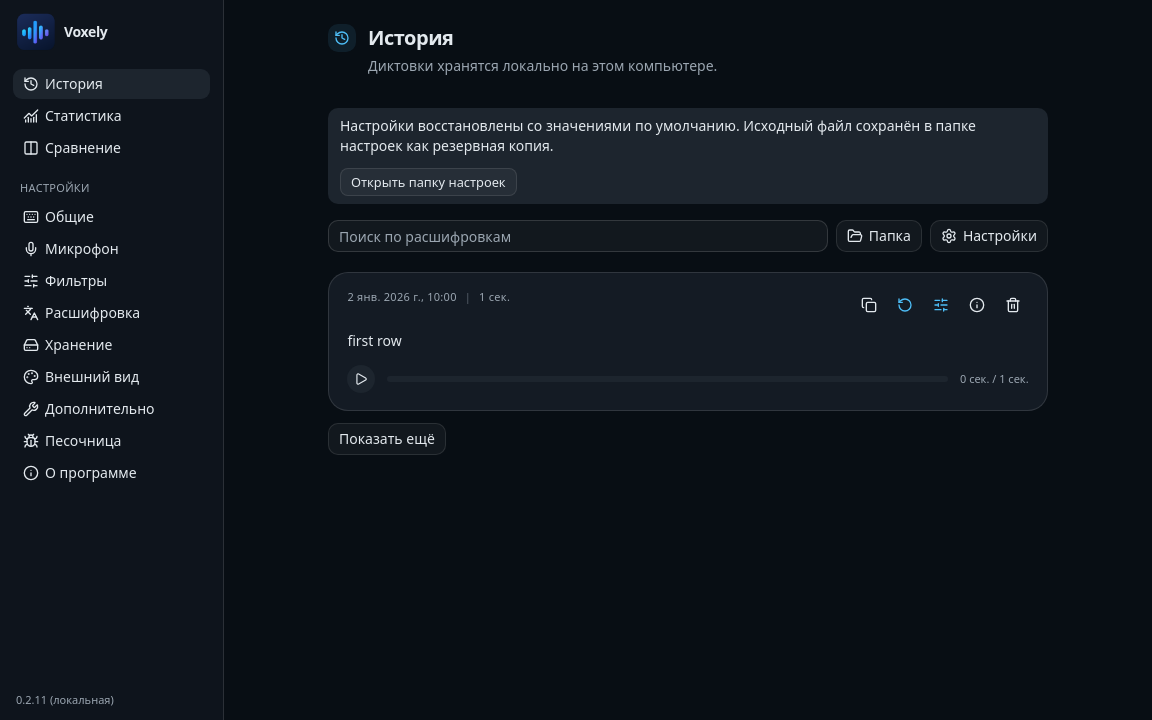
it: MainApp › deduplicates history pages and ignores a page that finishes after a refresh
Expected: the text "first row" is shown, [347,331,402,350]
What coordinates should you click on to do the following:
click the button "Показать ещё"
I would click on:
 (387, 439)
Its box is [328,423,446,455].
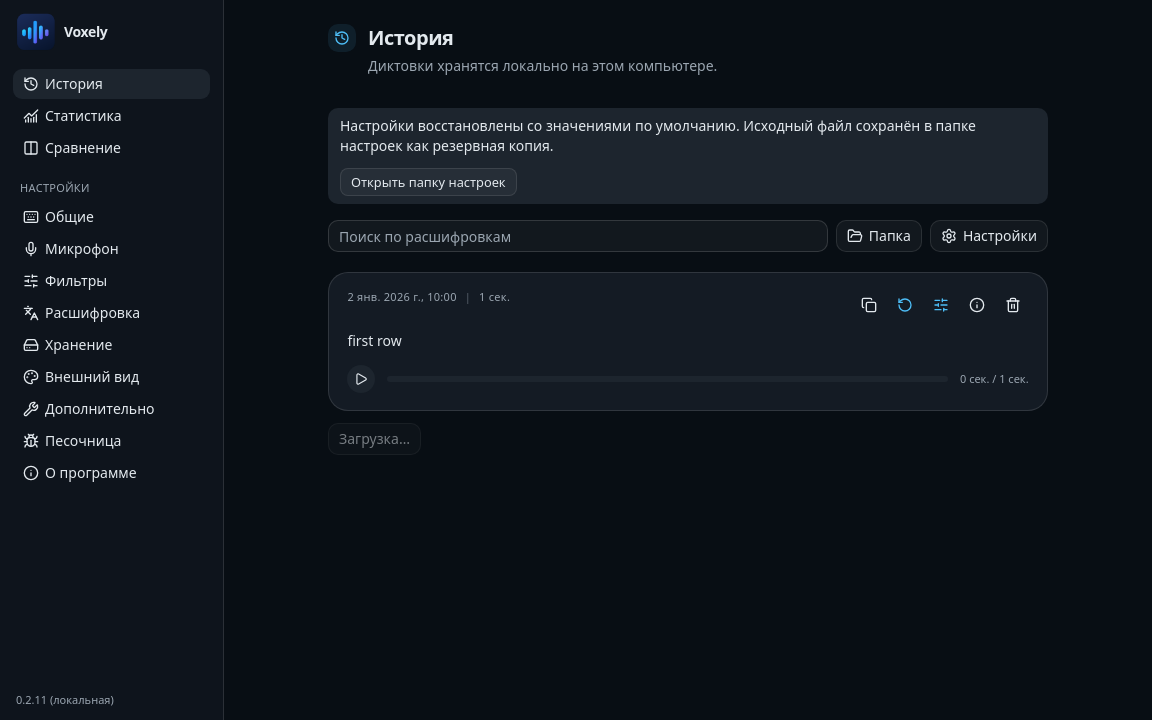
What coordinates should you click on to do the following:
click the button named "Показать ещё"
I would click on:
 (374, 439)
Its box is [328,423,421,455].
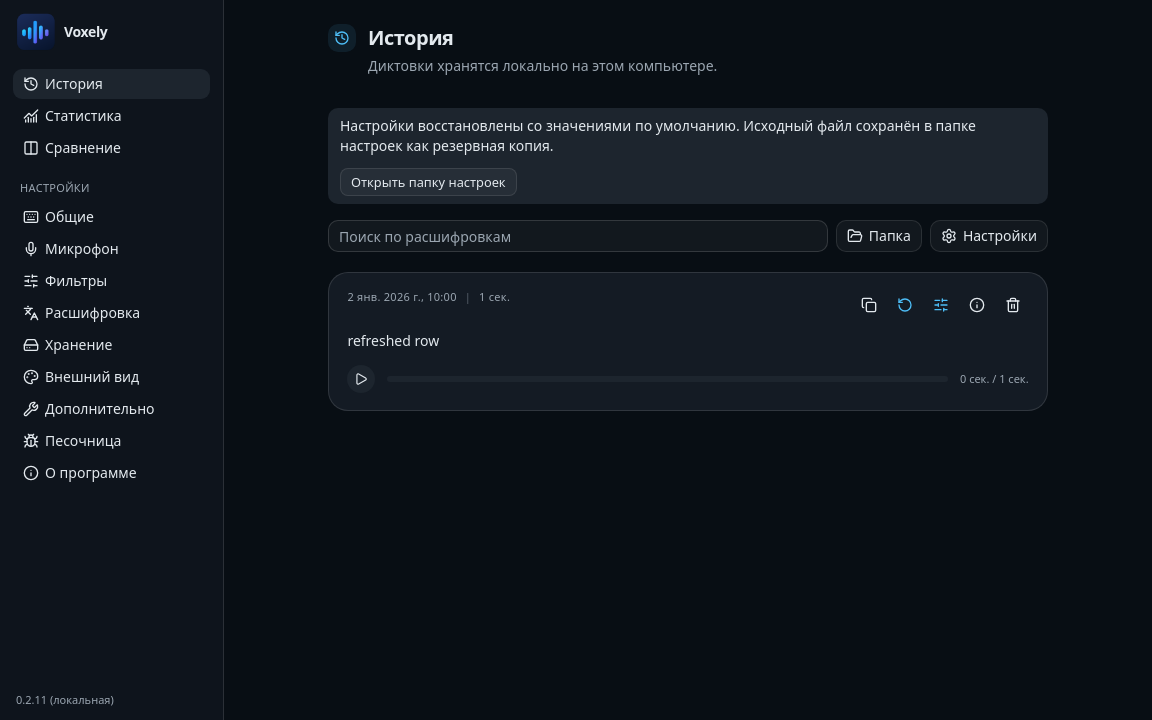
Result: the text "refreshed row" is shown at [347,331,439,350]
